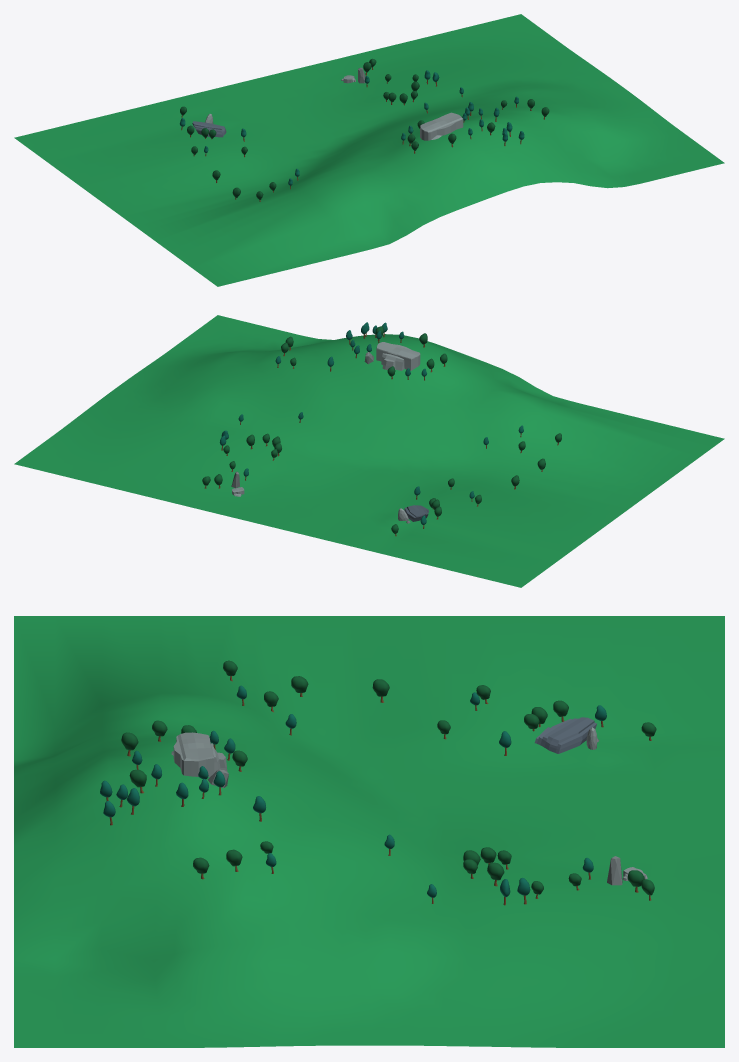
The model's file is Ground_001.fbx.
The picture shows the model from 3 angles, top to bottom: view 1: azimuth 30°, elevation 25°; view 2: azimuth 150°, elevation 25°; view 3: azimuth 270°, elevation 25°; orthographic projection. The views are drawn at different scales.
Visible parts, largest first — view 1: Ground_001.004; view 2: Ground_001.004; view 3: Ground_001.004.
Boxes of the visible parts, x1,y1,x2,y2 form: Ground_001.004: [14, 14, 724, 286]; Ground_001.004: [14, 315, 724, 587]; Ground_001.004: [14, 616, 724, 1047].
Size of the model in its own units: 39064 by 4996 by 27173.
